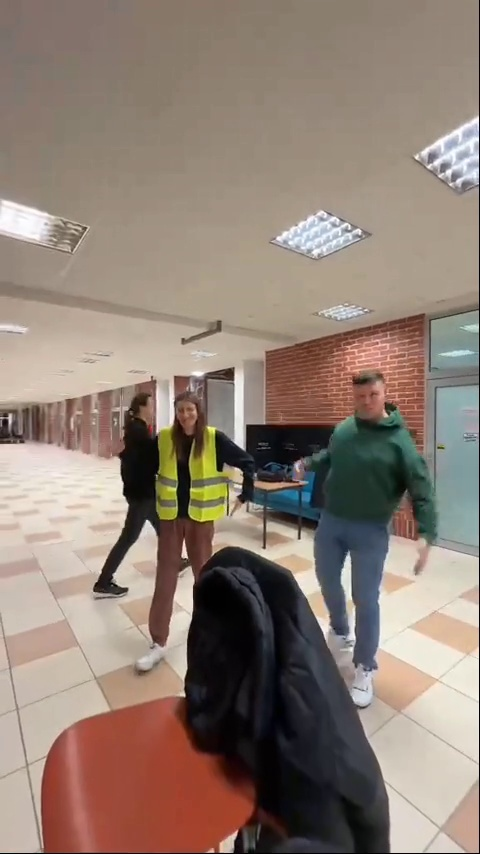no vest: (309, 364, 437, 685), (108, 390, 156, 600)
vest: (156, 396, 257, 680)
